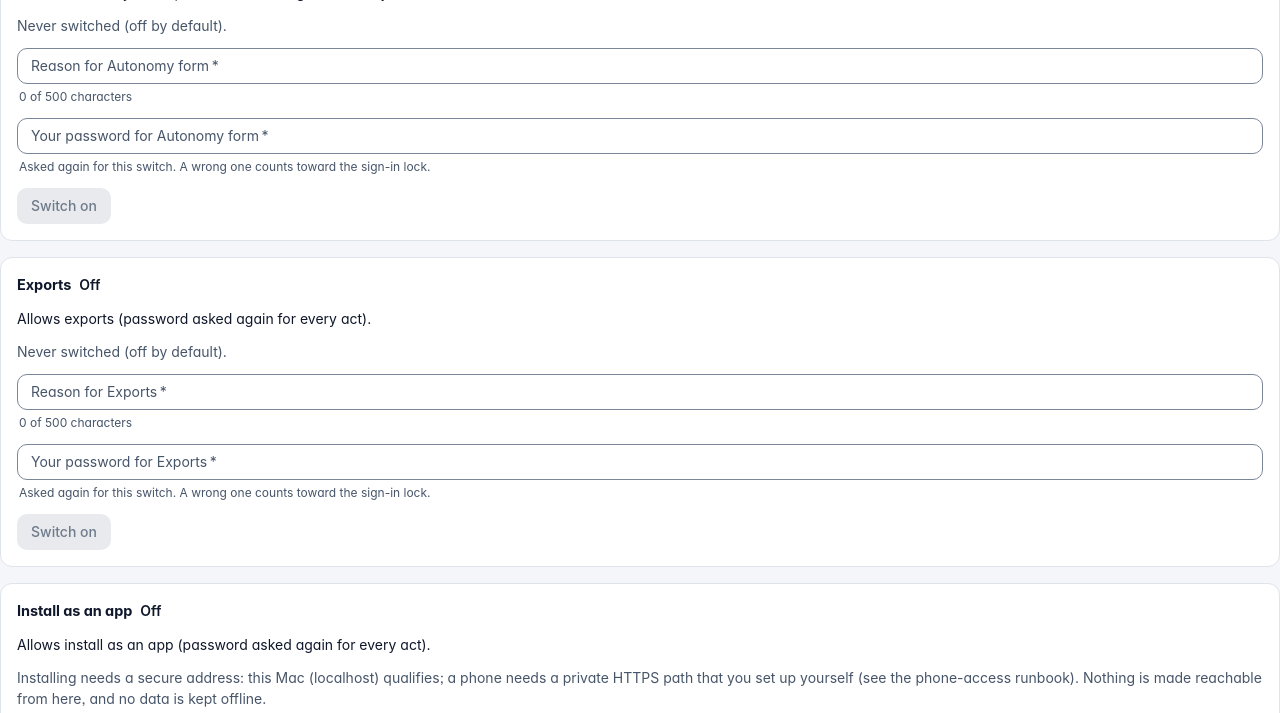
Test: Owner-act switches › keeps Switch on disabled until a reason and a password are typed
The width and height of the screenshot is (1280, 713).
(page scrolled)
Expected: the heading "Exports" is shown, [17,274,71,296]
Type "why" into the field labelled "Reason for Exports *" at (640, 392), box [17,374,1263,410]
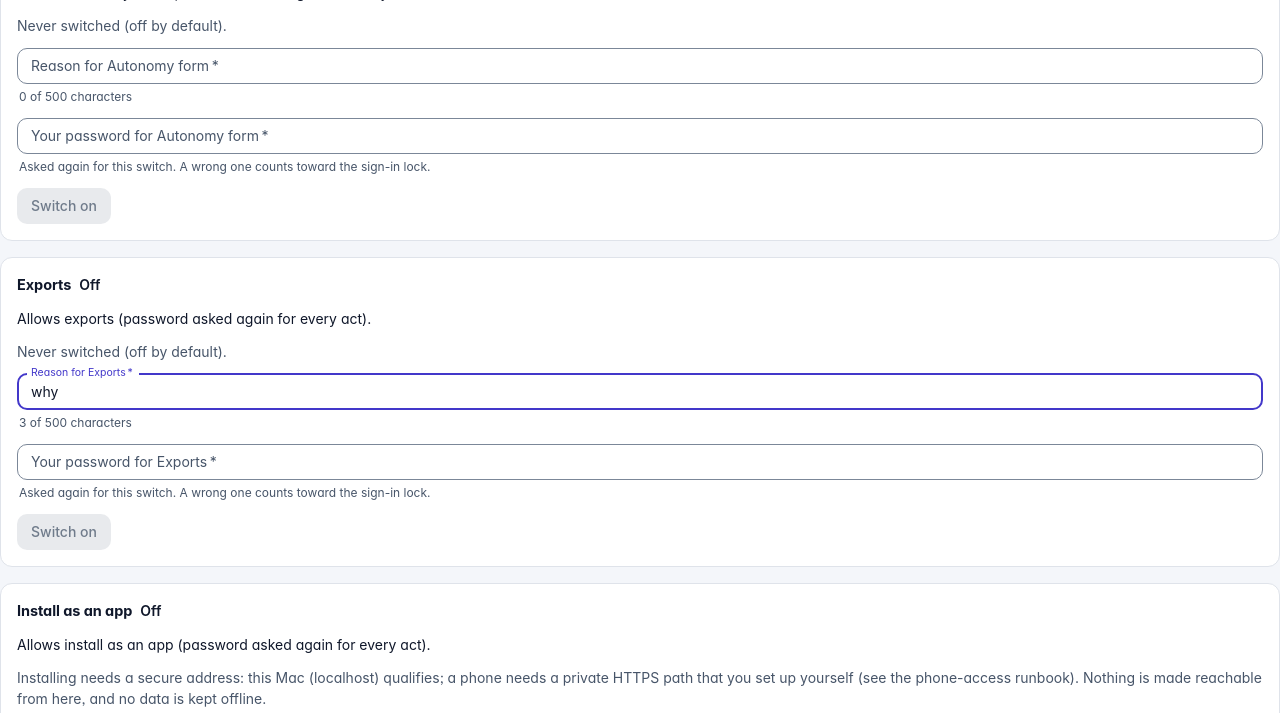
Expected: the button with aria-label "Switch on Exports" is disabled, [17,514,111,550]
Type "x" into the password field labelled "Your password for Exports *" at (640, 462), box [17,444,1263,480]
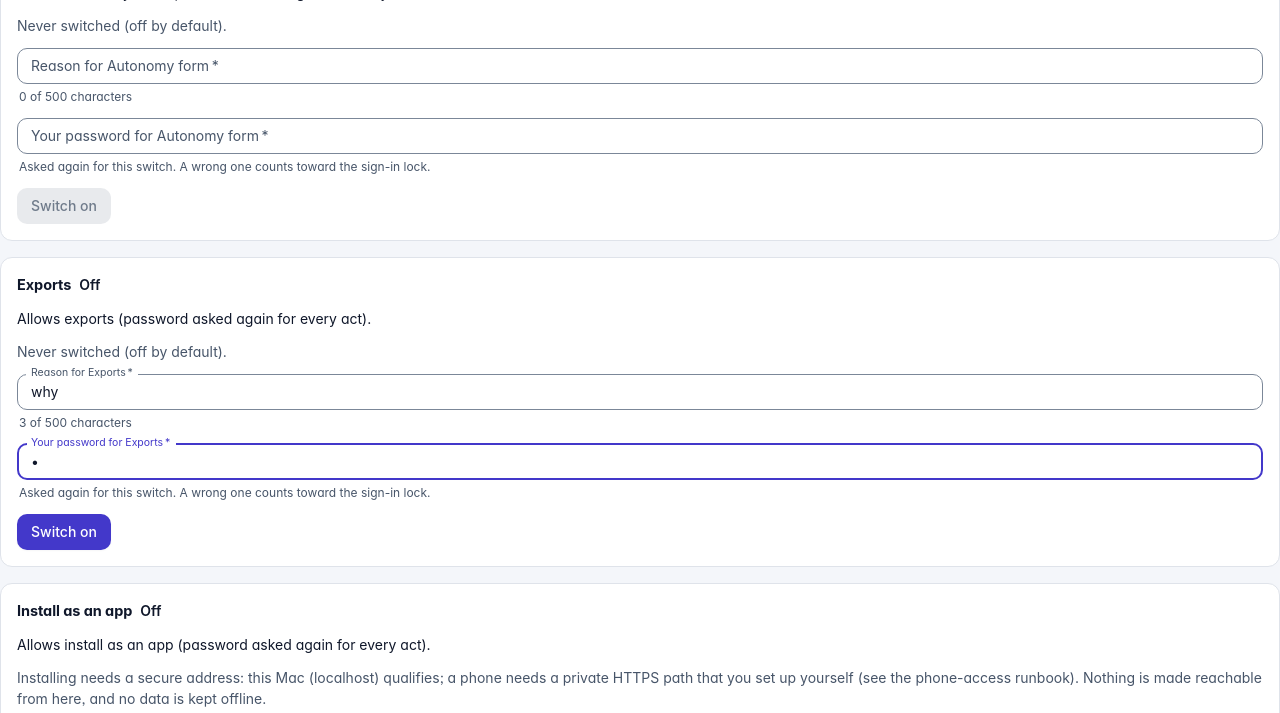
Now the button with aria-label "Switch on Exports" is enabled, box [17,514,111,550]
